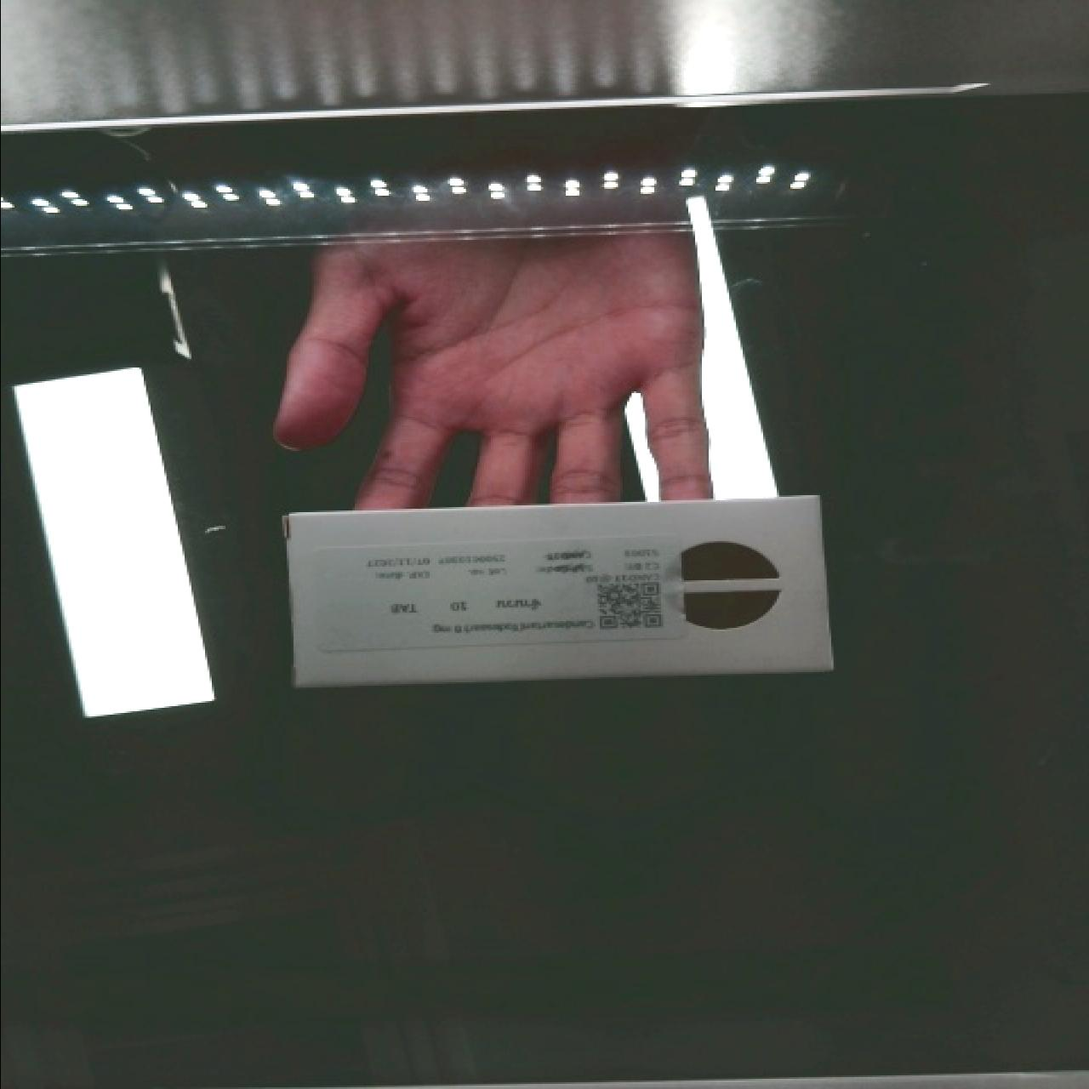qr_code: (578, 563, 682, 641)
